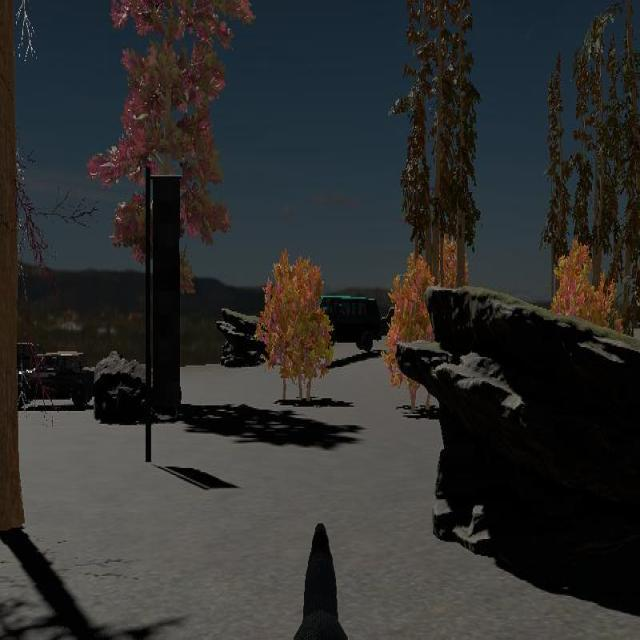car: (16, 348, 95, 410), (314, 294, 382, 352)
